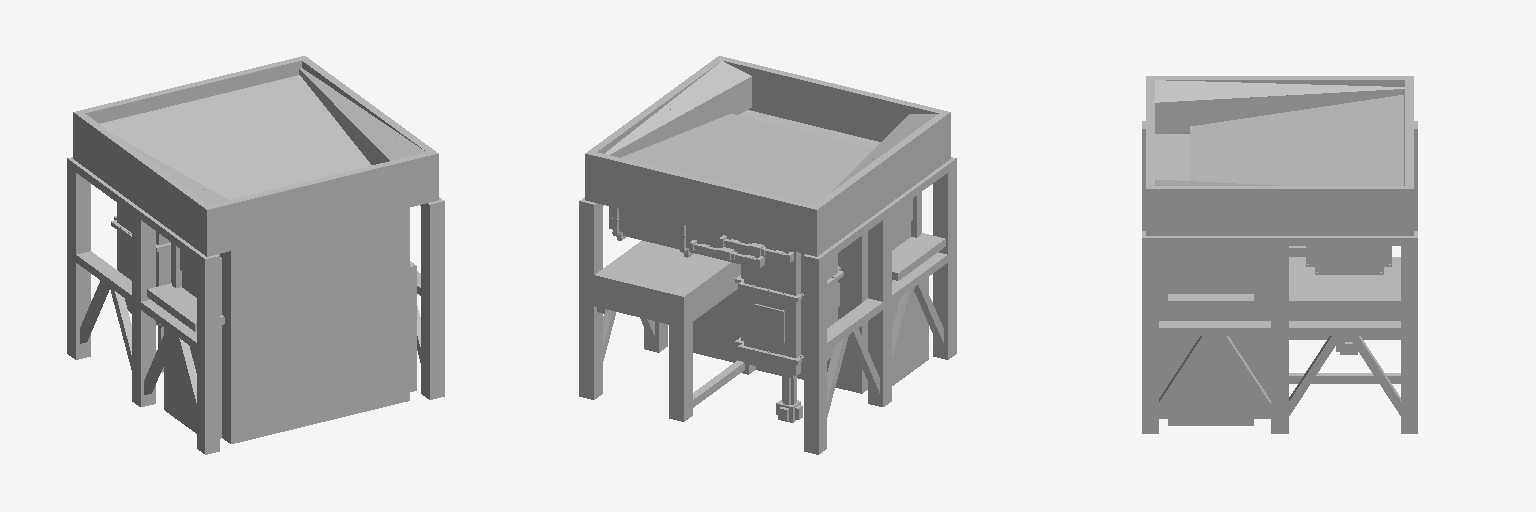
File: alloy_cauldron.obj
The picture shows the model from 3 angles: view 1: azimuth 30°, elevation 25°; view 2: azimuth 150°, elevation 25°; view 3: azimuth 270°, elevation 25°; orthographic projection.
Visible parts, largest first — view 1: Furnace1, Furnace4, Receiver5, Receiver3, Receiver2, Receiver6, pillar20, pillar10, pillar1, pillar11, Receiver4, Furnace2 (+15 smaller); view 2: Receiver4, Belt, Receiver2, Receiver3, Receiver5, Receiver6, pillar1, pillar0, Furnace1, pillar11, pillar10, Mold1 (+24 smaller); view 3: Receiver, Receiver5, Furnace3, Furnace4, Receiver6, ReceiverB, Belt, pillar21, pillar0, pillar20, Furnace1, Receiver2 (+16 smaller).
Part boxes in pixels (x1,y1,x2,y2): Furnace1: (222, 284, 409, 443); Furnace4: (171, 208, 409, 326); Receiver5: (100, 75, 349, 176); Receiver3: (211, 152, 430, 254); Receiver2: (73, 110, 214, 256); Receiver6: (189, 138, 371, 199); pillar20: (421, 197, 444, 399); pillar10: (197, 252, 219, 454); pillar1: (67, 157, 90, 359); pillar11: (132, 205, 155, 406); Receiver4: (81, 57, 301, 123); Furnace2: (164, 325, 221, 438); Receiver4: (593, 152, 812, 254); Belt: (594, 241, 735, 327); Receiver2: (809, 110, 950, 256); Receiver3: (722, 57, 942, 141); Receiver5: (621, 135, 846, 204); Receiver6: (679, 114, 873, 175); pillar1: (804, 252, 826, 454); pillar0: (579, 197, 602, 399); Furnace1: (693, 272, 867, 393); pillar11: (868, 205, 891, 406); pillar10: (933, 157, 956, 359); Mold1: (744, 270, 800, 375); Receiver: (1146, 186, 1413, 235); Receiver5: (1276, 95, 1404, 185); Furnace3: (1168, 294, 1253, 425); Furnace4: (1159, 246, 1270, 301); Receiver6: (1190, 114, 1275, 185); ReceiverB: (1155, 89, 1404, 133); Belt: (1315, 257, 1400, 320); pillar21: (1271, 236, 1288, 433); pillar0: (1401, 231, 1417, 433); pillar20: (1142, 231, 1158, 433); Furnace1: (1159, 302, 1270, 418); Receiver2: (1146, 76, 1413, 86).
Bounding box in the file's own units: 2 × 1.97 × 2.